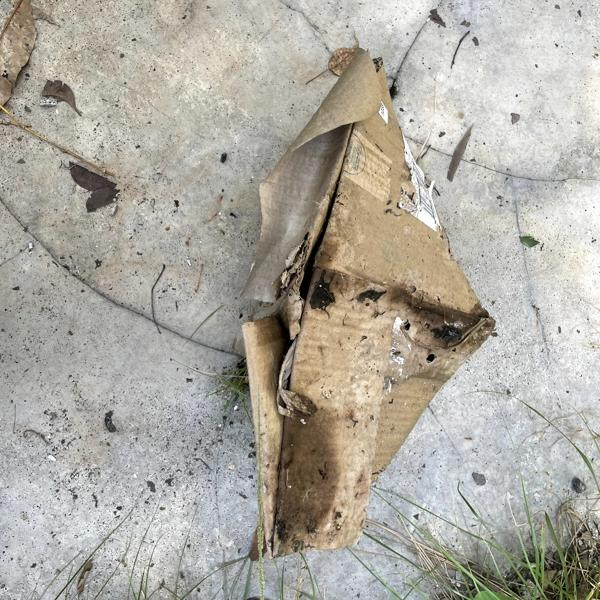Organik: (226, 23, 506, 576)
